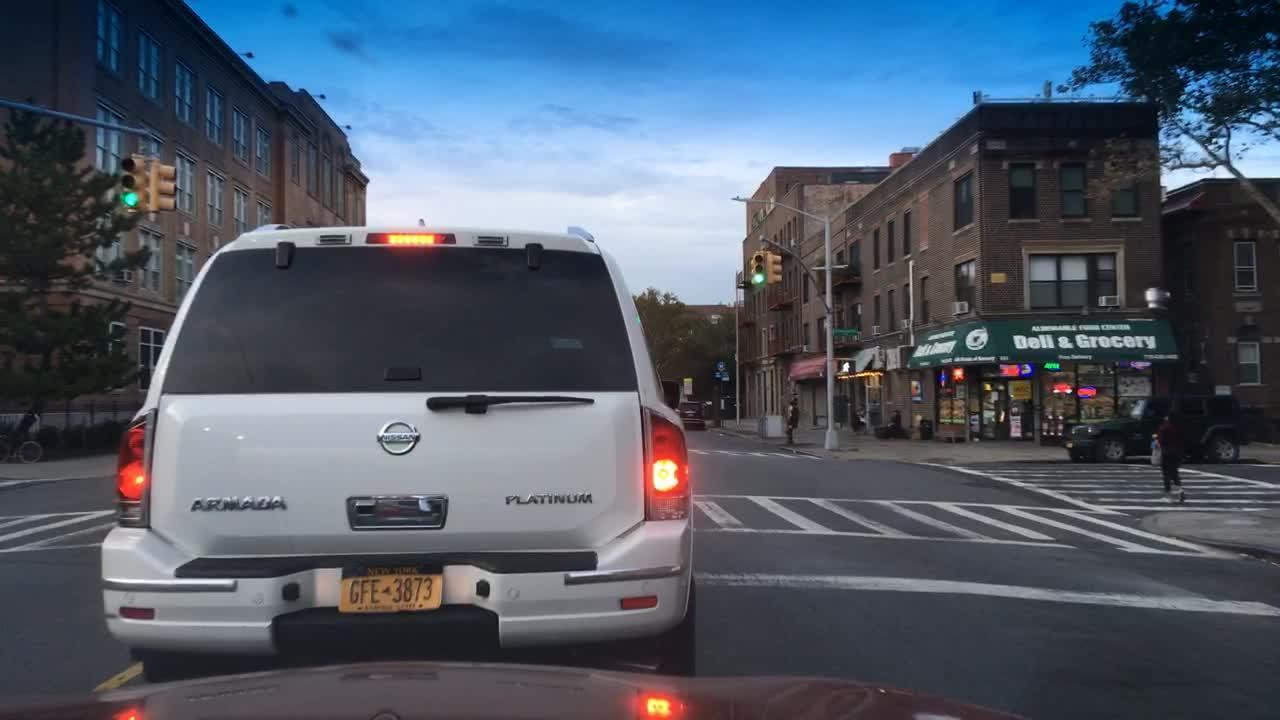Nissan: (361, 410, 431, 468)
